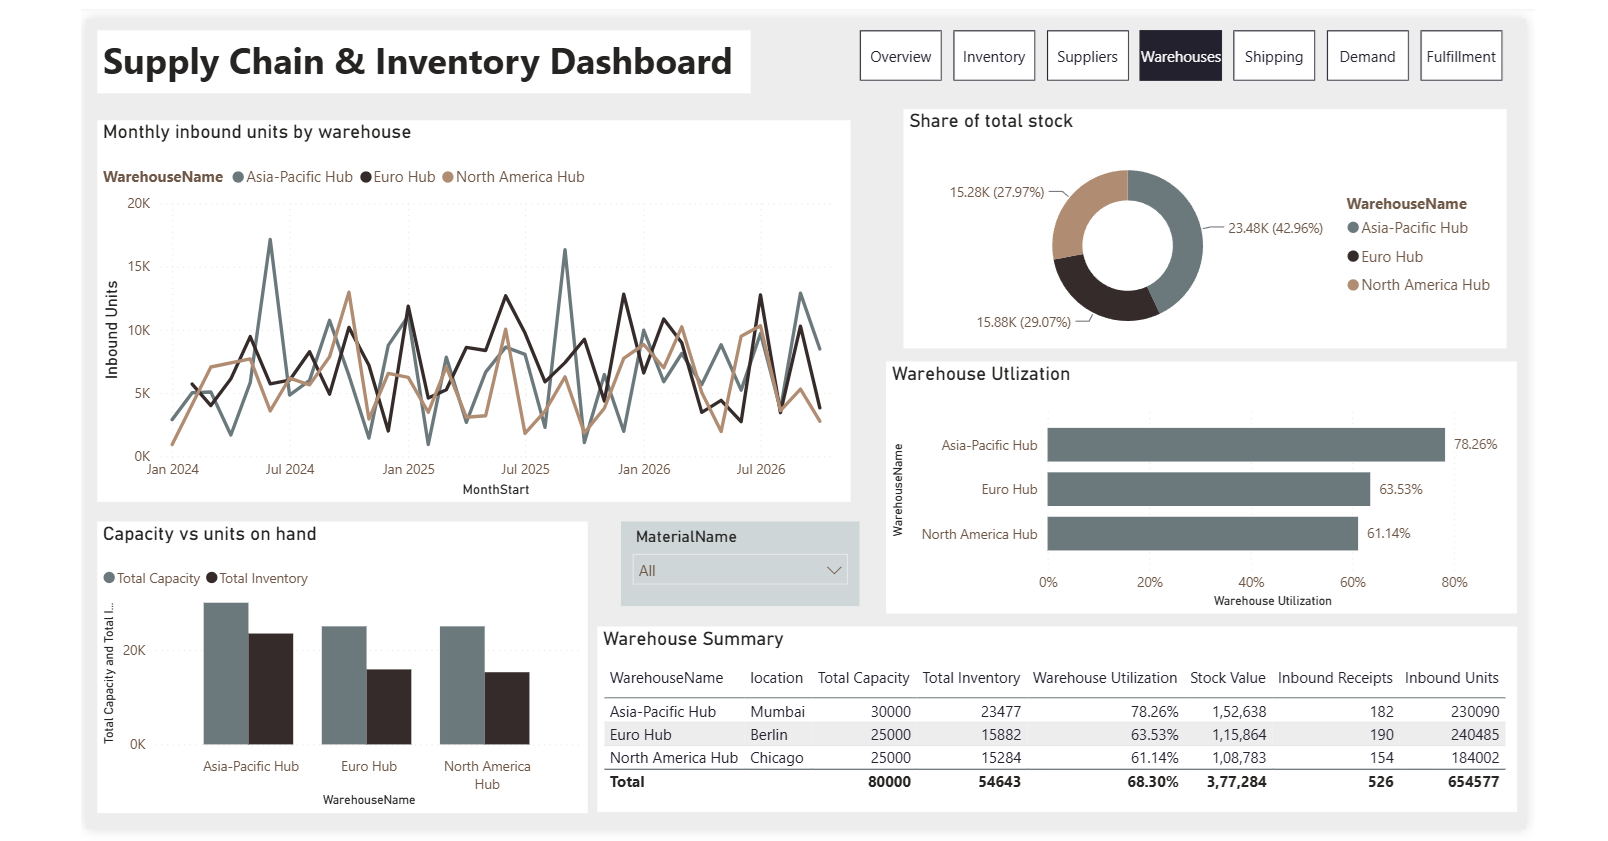

The dashboard page shown, as its layout file describes it:
{"tool":"powerbi","page":{"name":"Warehouses","canvas":[1280,720],"ordinal":3},"visuals":[{"type":"clusteredBarChart","title":"Warehouse Utlization","fields":{"Category":["warehouses_clean.WarehouseName"],"Y":["sales_orders_clean.Warehouse Utilization"]},"box":[711.6,304.2,561.1,224.2],"z":0},{"type":"clusteredColumnChart","title":"Capacity vs units on hand","fields":{"Category":["warehouses_clean.WarehouseName"],"Y":["carriers_clean.Total Capacity","sales_orders_clean.Total Inventory"]},"box":[10.5,446.3,435.8,258.9],"z":1000},{"type":"lineChart","title":"Monthly inbound units by warehouse","fields":{"Y":["carriers_clean.Inbound Units"],"Series":["warehouses_clean.WarehouseName"],"Category":["stock_movements_clean.MonthStart"]},"box":[10.5,89.5,669.5,338.9],"z":2000},{"type":"donutChart","title":"Share of total stock","fields":{"Category":["warehouses_clean.WarehouseName"],"Y":["sales_orders_clean.Total Inventory"]},"box":[726.3,80,535.8,212.6],"z":3000},{"type":"tableEx","title":"Warehouse Summary","fields":{"Values":["warehouses_clean.WarehouseName","warehouses_clean.location","carriers_clean.Total Capacity","sales_orders_clean.Total Inventory","sales_orders_clean.Warehouse Utilization","carriers_clean.Stock Value","carriers_clean.Inbound Receipts","carriers_clean.Inbound Units"]},"box":[454.7,540,818,165.1],"z":4000},{"type":"slicer","fields":{"Values":["raw_materials_clean.MaterialName"]},"box":[475.8,446.3,212,75],"z":5000},{"type":"pageNavigator","box":[687.6,10.5,575,45.7],"z":6000},{"type":"textbox","box":[10.5,10.5,581.1,55.8],"z":7000}]}

Visuals, with their boxes on the page's 1280x720 design canvas (x1, y1, x2, y2). These are canvas units, not pixel positions in the 1608x841 screenshot, which may show the page scaled, cropped or inside an application window:
"Warehouse Utlization" clusteredBarChart: 712 304 1273 528
"Capacity vs units on hand" clusteredColumnChart: 10 446 446 705
"Monthly inbound units by warehouse" lineChart: 10 90 680 428
"Share of total stock" donutChart: 726 80 1262 293
"Warehouse Summary" tableEx: 455 540 1273 705
slicer - raw_materials_clean.MaterialName: 476 446 688 521
pageNavigator: 688 10 1263 56
textbox: 10 10 592 66
